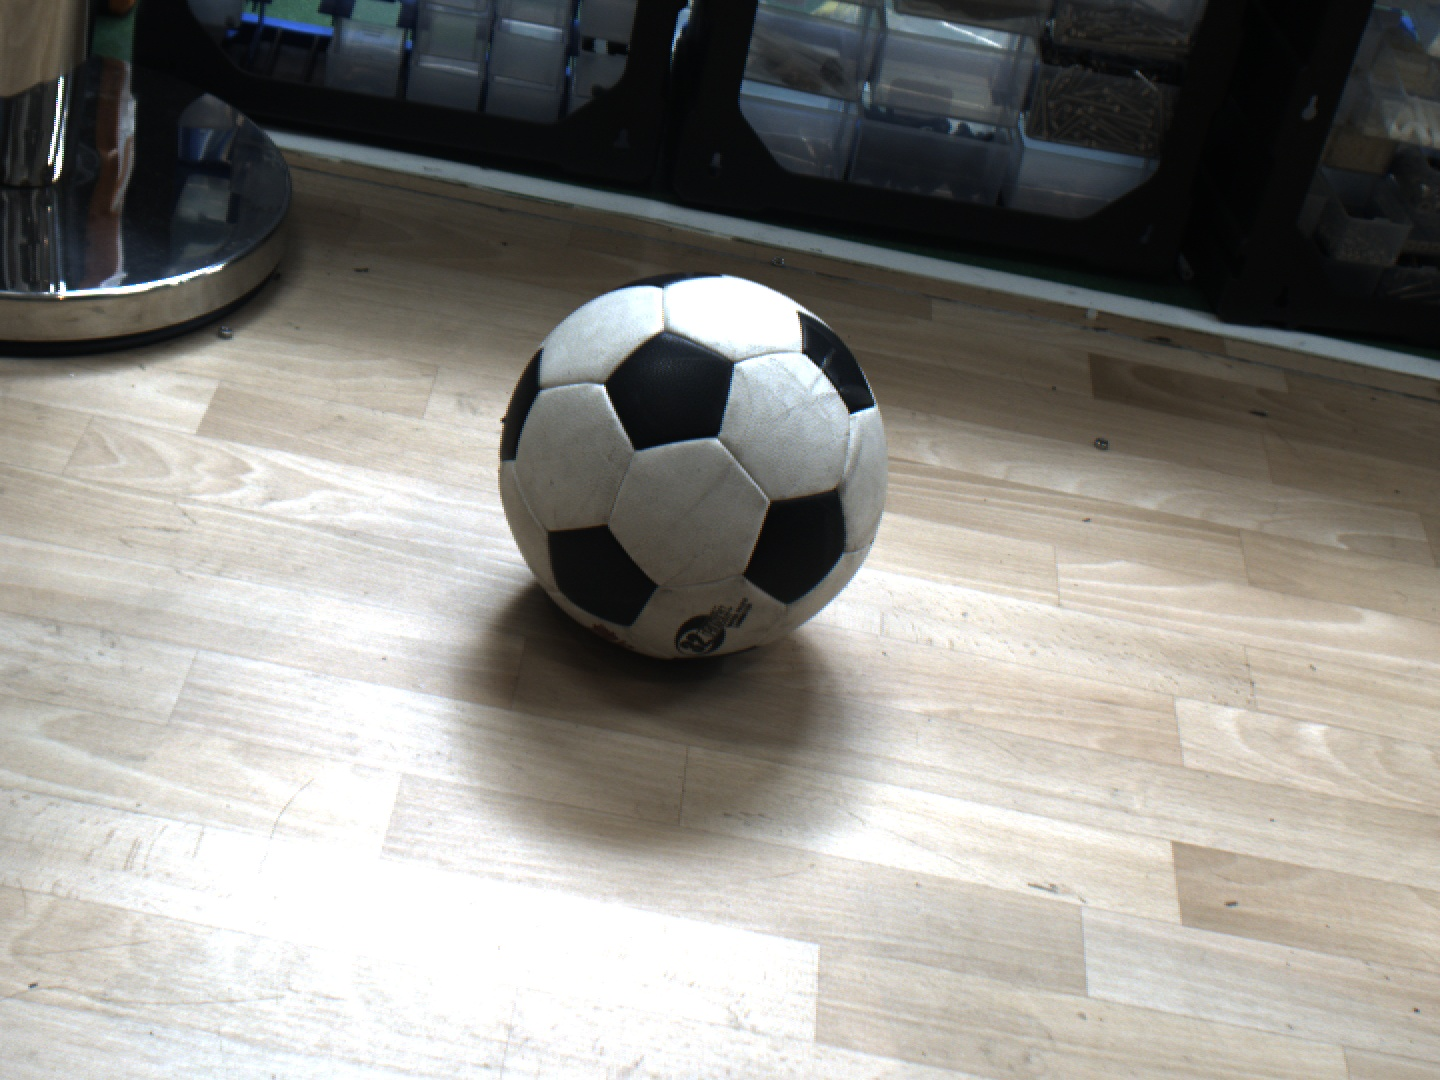ball: (490, 264, 900, 681)
